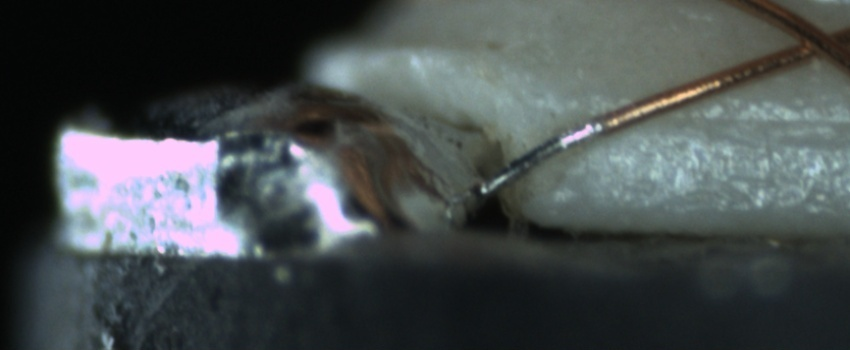CL: (770, 13, 848, 69)
DL: (632, 93, 845, 154)
TS: (482, 117, 597, 196)
